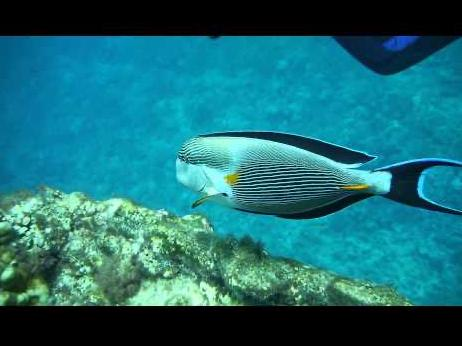Acanthuridae -Surgeonfishes-: (164, 123, 462, 228)
